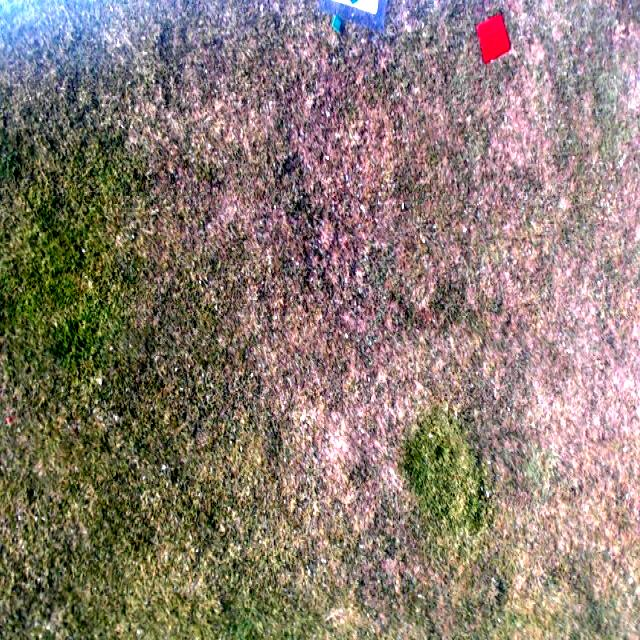red_square: (475, 14, 512, 64)
